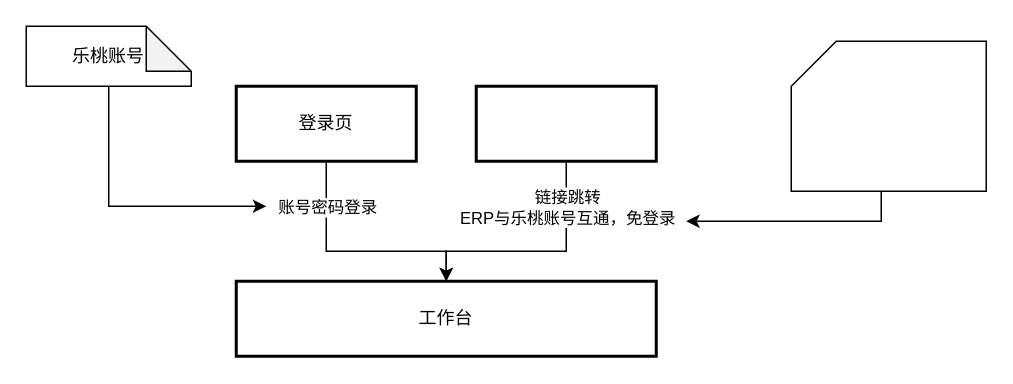
This 1013x384 diagram has some shape labels left out. Here are the shapes that lost their labels. From the top down, the box of each, then its label:
(474, 84, 657, 162): ERP外链
(790, 40, 986, 191): 对于前端来说是直接跳转，实际上会走后端的认证返回认证后携带token参数的URL链接
